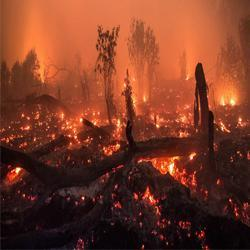fire: (69, 116, 128, 135), (156, 154, 181, 178), (213, 89, 238, 109)
